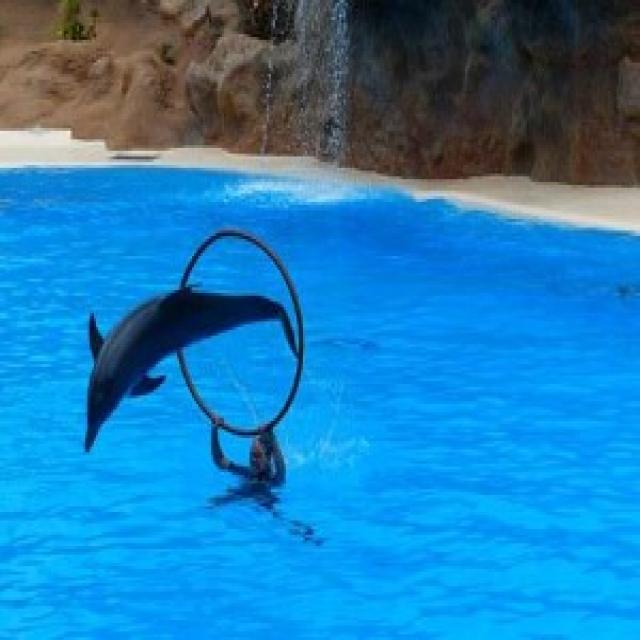Dolphin: (82, 250, 296, 440)
